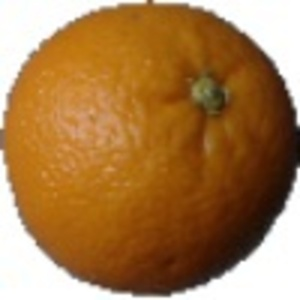laranja: (4, 3, 297, 294)
